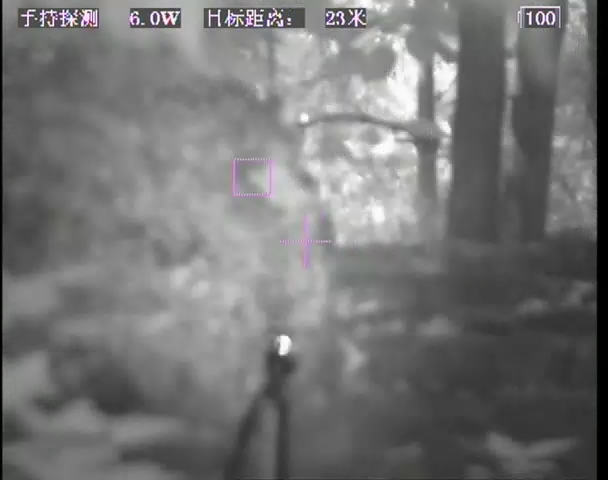my: (269, 333, 297, 358)
